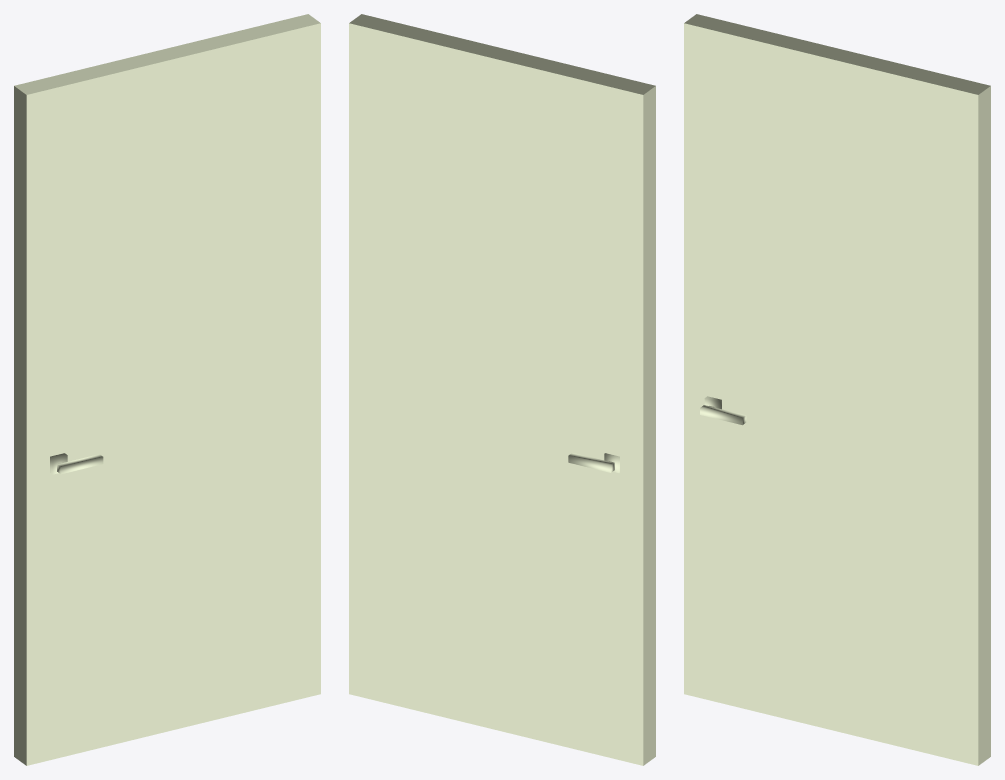
File: hotl_door_small.FBX
3 renders of one model, left to right at view 1: azimuth 30°, elevation 25°; view 2: azimuth 150°, elevation 25°; view 3: azimuth 330°, elevation 25°, orthographic.
Parts seen in each view (by area): view 1: door_small; view 2: door_small; view 3: door_small.
Boxes of the visible parts, x1=… form: door_small: x1=14, y1=14, x2=320, y2=765; door_small: x1=349, y1=14, x2=655, y2=765; door_small: x1=684, y1=14, x2=990, y2=765.
Bounding box in the file's own units: 1.11 × 2.42 × 0.1896.
